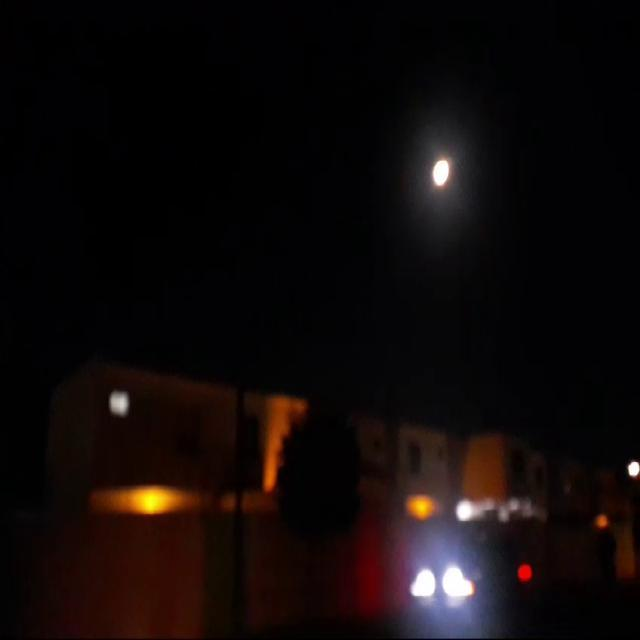moon: (426, 157, 446, 191)
